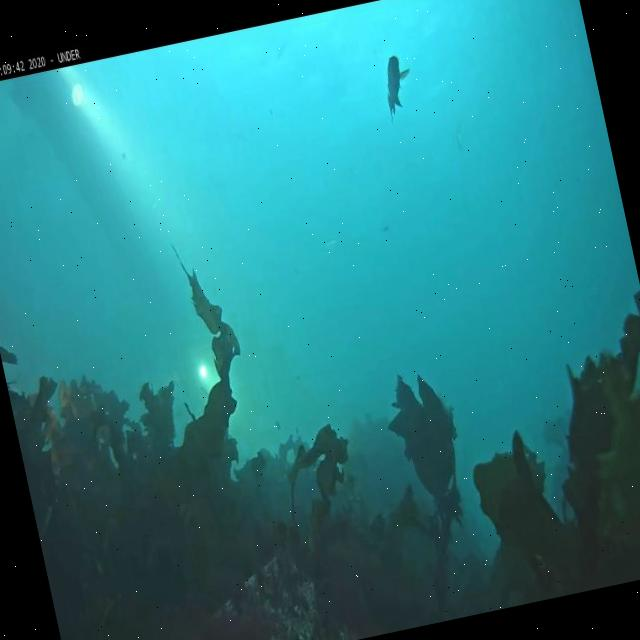fish: (378, 53, 420, 124)
